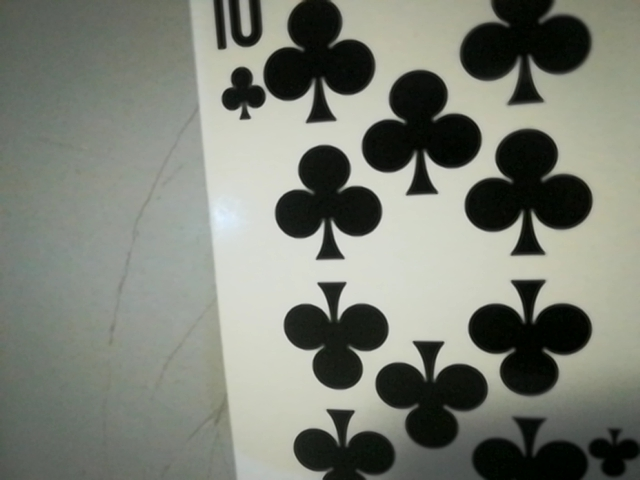mh 10: (197, 0, 274, 124)
